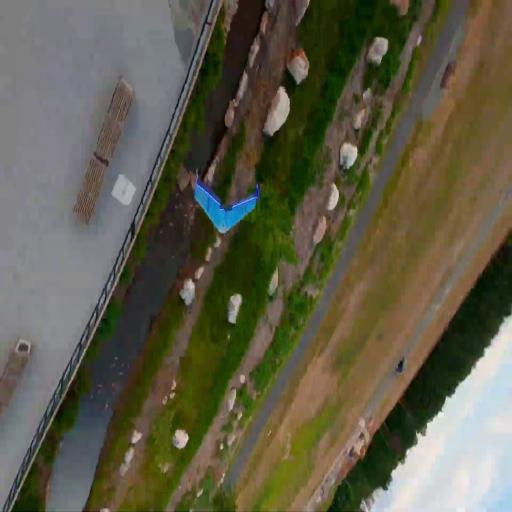uav: (192, 166, 261, 240)
